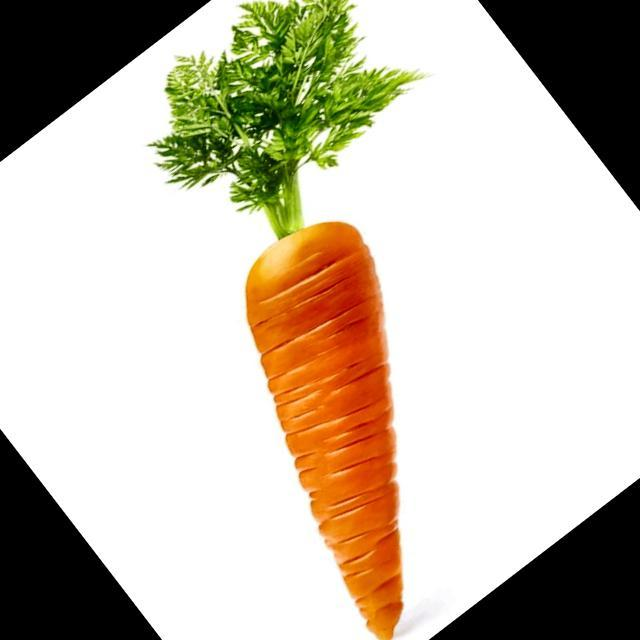carrot: (152, 0, 422, 640)
